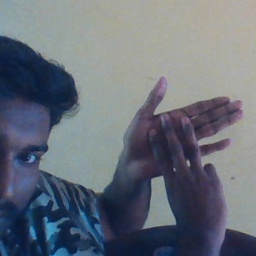M: (120, 74, 244, 220)
